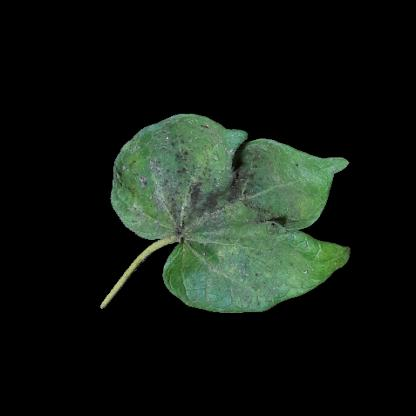curl_stage1: (281, 239, 329, 285)
curl_stage2: (214, 275, 273, 307), (171, 259, 217, 293)
healthy: (290, 156, 329, 214)
sooty: (172, 158, 264, 228), (141, 131, 200, 199)
